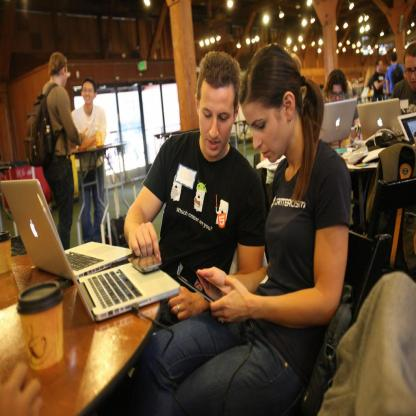board: (35, 192, 180, 324), (2, 179, 134, 280), (356, 100, 404, 142), (318, 98, 358, 144), (397, 112, 416, 146)
